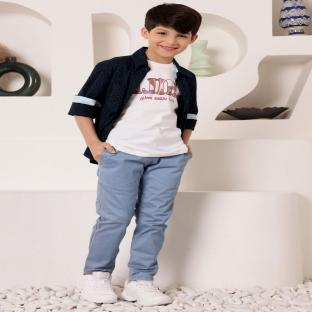Human: (69, 3, 201, 304)
